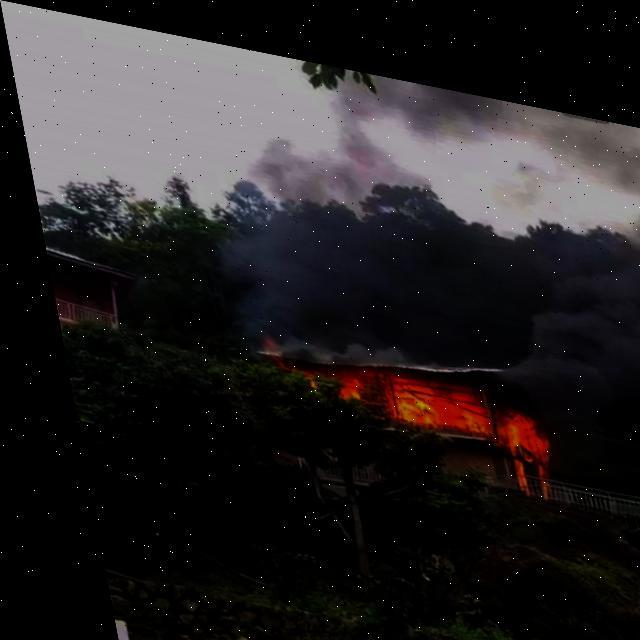Fire: (279, 339, 548, 454)
